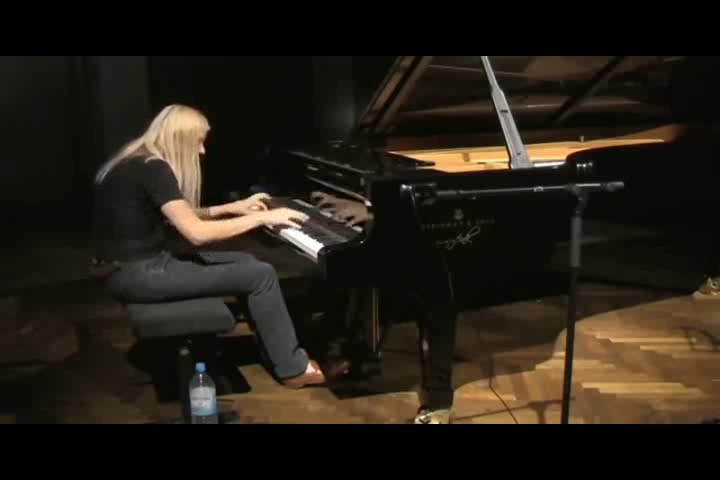keyboard: (214, 183, 358, 270)
